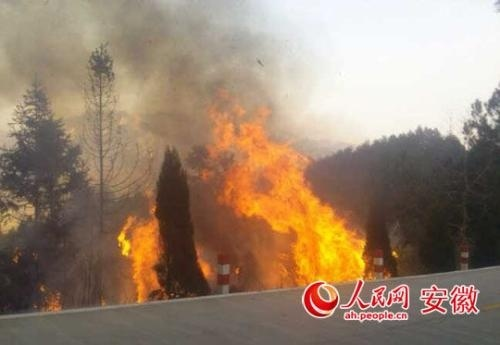fire: (199, 94, 383, 283), (114, 200, 165, 301), (31, 279, 64, 312)
